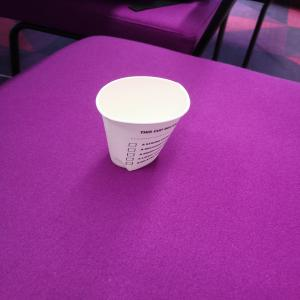Cup: (95, 76, 193, 173)
